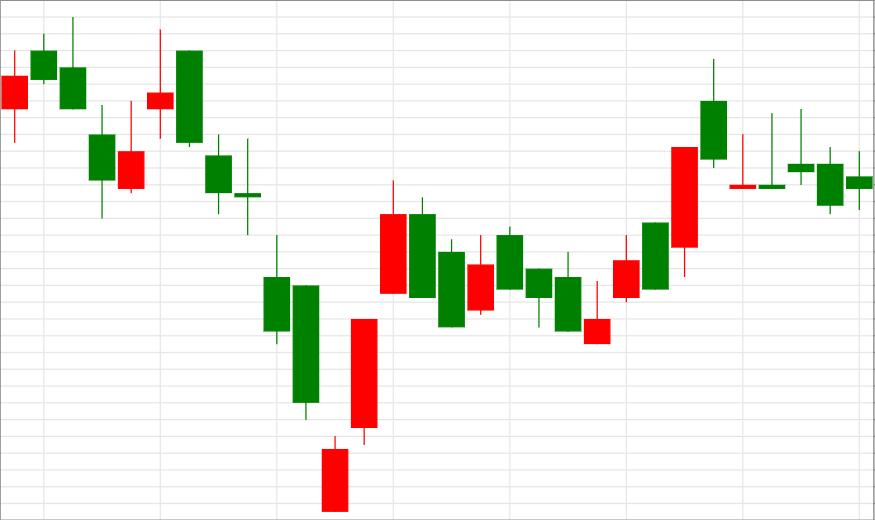three_white_soldiers_rise: (176, 50, 407, 513)
